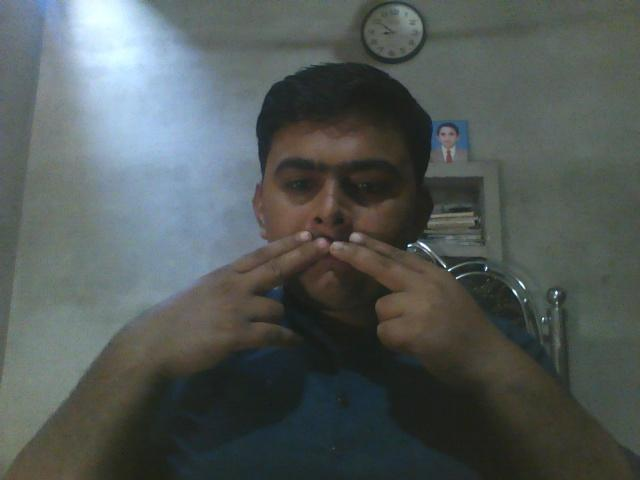Thanks: (206, 220, 438, 327)
